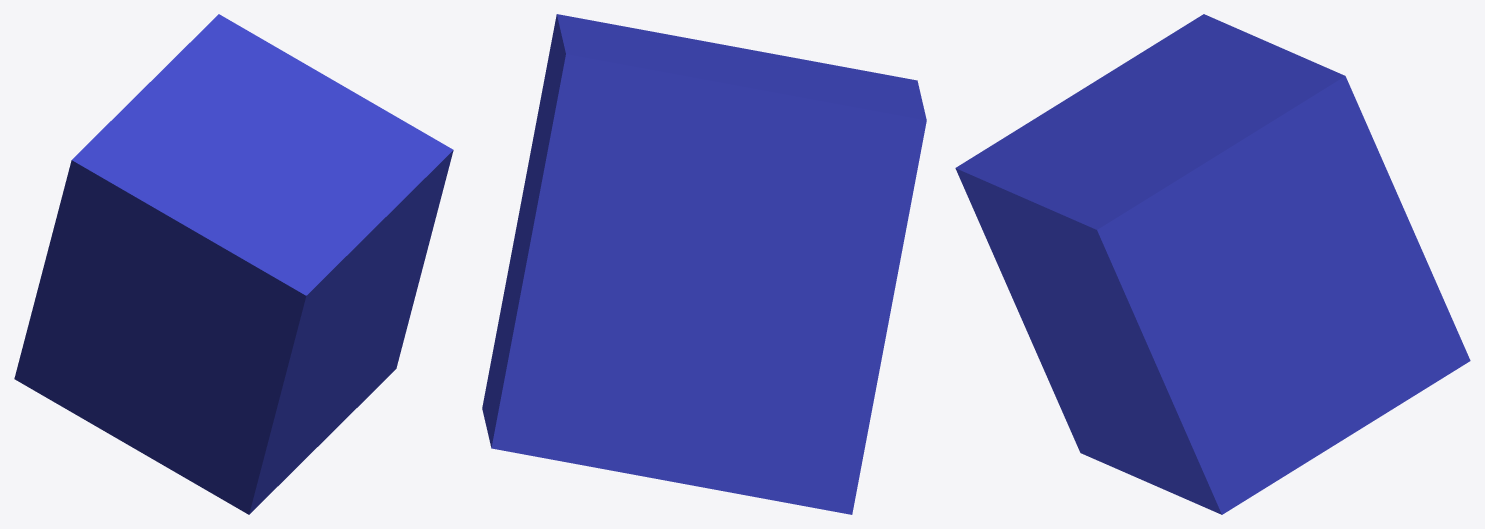
File: square.fbx
3 views of the same model, side by side, from view 1: azimuth 30°, elevation 25°; view 2: azimuth 150°, elevation 25°; view 3: azimuth 270°, elevation 25° (orthographic). The views are drawn at different scales.
Visible parts, largest first — view 1: root; view 2: root; view 3: root.
Part boxes in pixels (x1=…): root: x1=14, y1=14, x2=453, y2=514; root: x1=482, y1=14, x2=926, y2=514; root: x1=955, y1=14, x2=1470, y2=514.
Bounding box in the file's own units: 0.4708 × 0.5265 × 0.5777.
